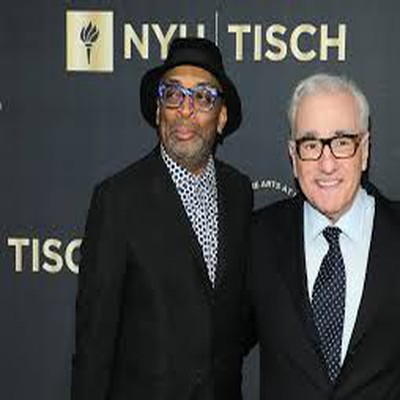eywear: (146, 78, 244, 128), (279, 118, 377, 168)
